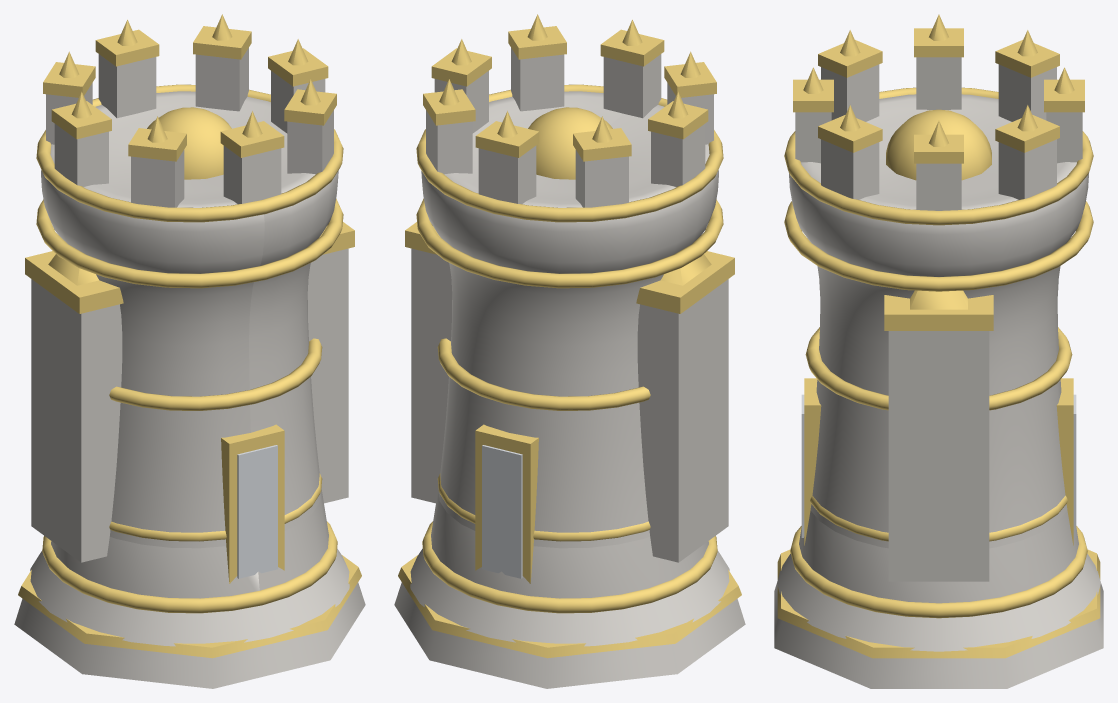
File: rook.glb
The picture shows the model from 3 angles, left to right: view 1: azimuth 30°, elevation 25°; view 2: azimuth 150°, elevation 25°; view 3: azimuth 270°, elevation 25°; orthographic projection.
Visible parts, largest first — view 1: body, gold, steel; view 2: body, gold, steel; view 3: body, gold, steel.
Part boxes in pixels (box(x1,y1,x2,y2)): body: box(14, 48, 365, 688); gold: box(18, 14, 361, 658); steel: box(237, 445, 277, 578); body: box(394, 48, 745, 688); gold: box(398, 14, 741, 658); steel: box(482, 445, 522, 578); body: box(774, 57, 1103, 688); gold: box(777, 14, 1100, 658); steel: box(801, 394, 1076, 537).
Bounding box in the file's own units: 0.7206 × 1.34 × 0.7206.
